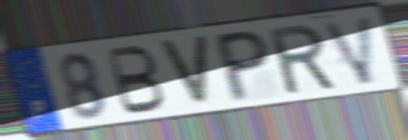8: (58, 50, 108, 123)
B: (105, 43, 168, 118)
P: (215, 27, 271, 106)
R: (265, 21, 340, 97)
V: (320, 13, 377, 88), (155, 34, 211, 108)
